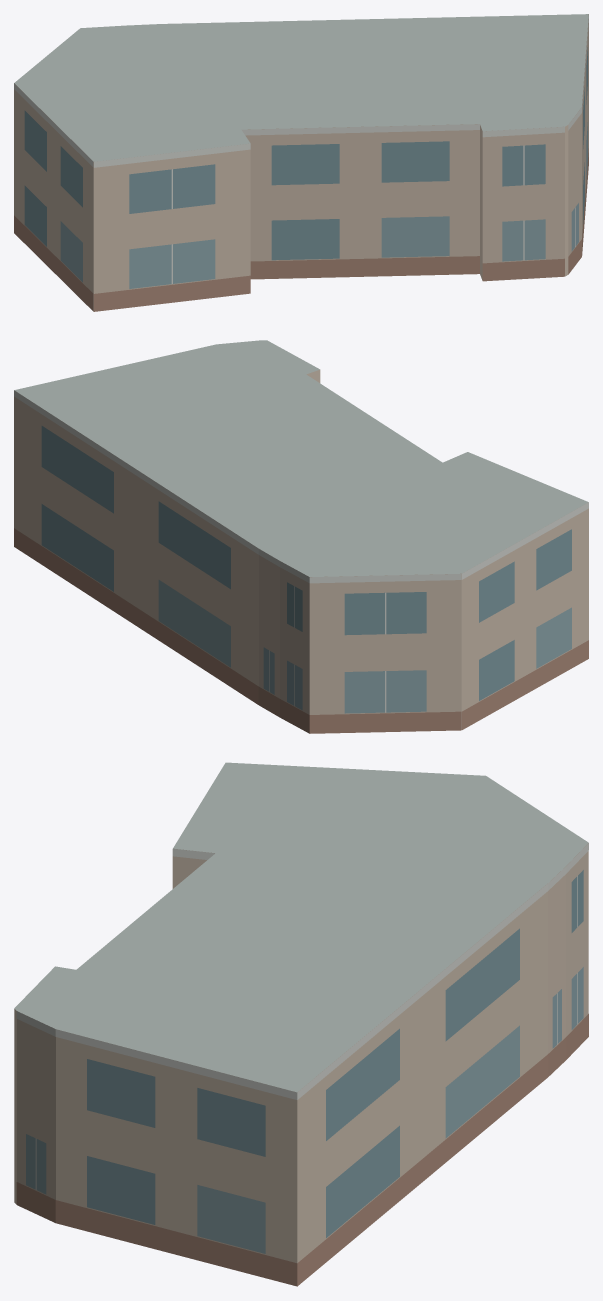
The model's file is survey-upis-32466230.glb.
3 renders of one model, top to bottom at view 1: azimuth 30°, elevation 25°; view 2: azimuth 150°, elevation 25°; view 3: azimuth 270°, elevation 25°, orthographic. The views are drawn at different scales.
Parts seen in each view (by area): view 1: survey-upis-32466230.tmp; view 2: survey-upis-32466230.tmp; view 3: survey-upis-32466230.tmp.
Boxes of the visible parts, x1=… form: survey-upis-32466230.tmp: x1=14, y1=14, x2=588, y2=311; survey-upis-32466230.tmp: x1=14, y1=340, x2=588, y2=733; survey-upis-32466230.tmp: x1=14, y1=762, x2=588, y2=1286.
Size of the model in its own units: 22.26 by 6.1 by 16.38.
